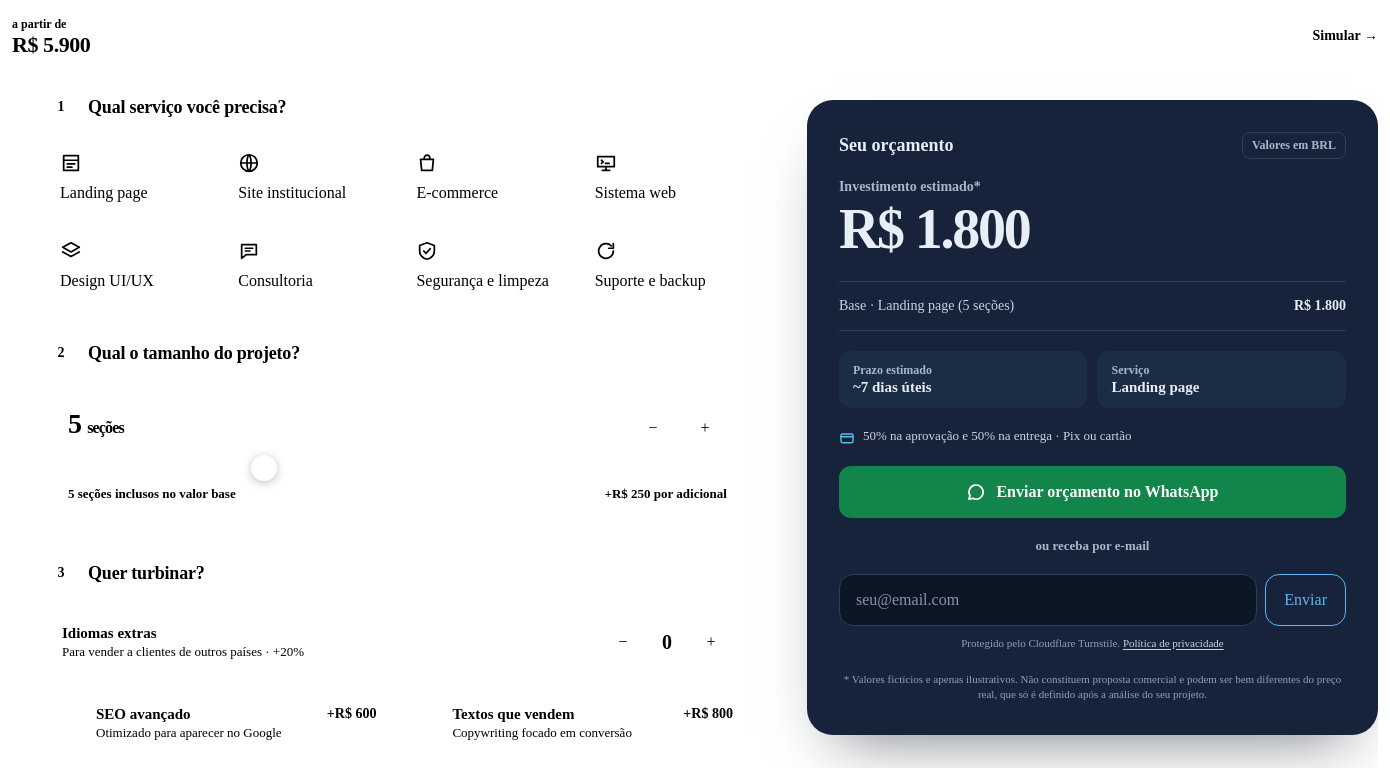
calculadora › consultoria não tem extras e mostra o aviso
What coordinates should you click on to do the following:
click the button "Consultoria"
I would click on:
 (308, 265)
Its box is [224, 226, 392, 304].
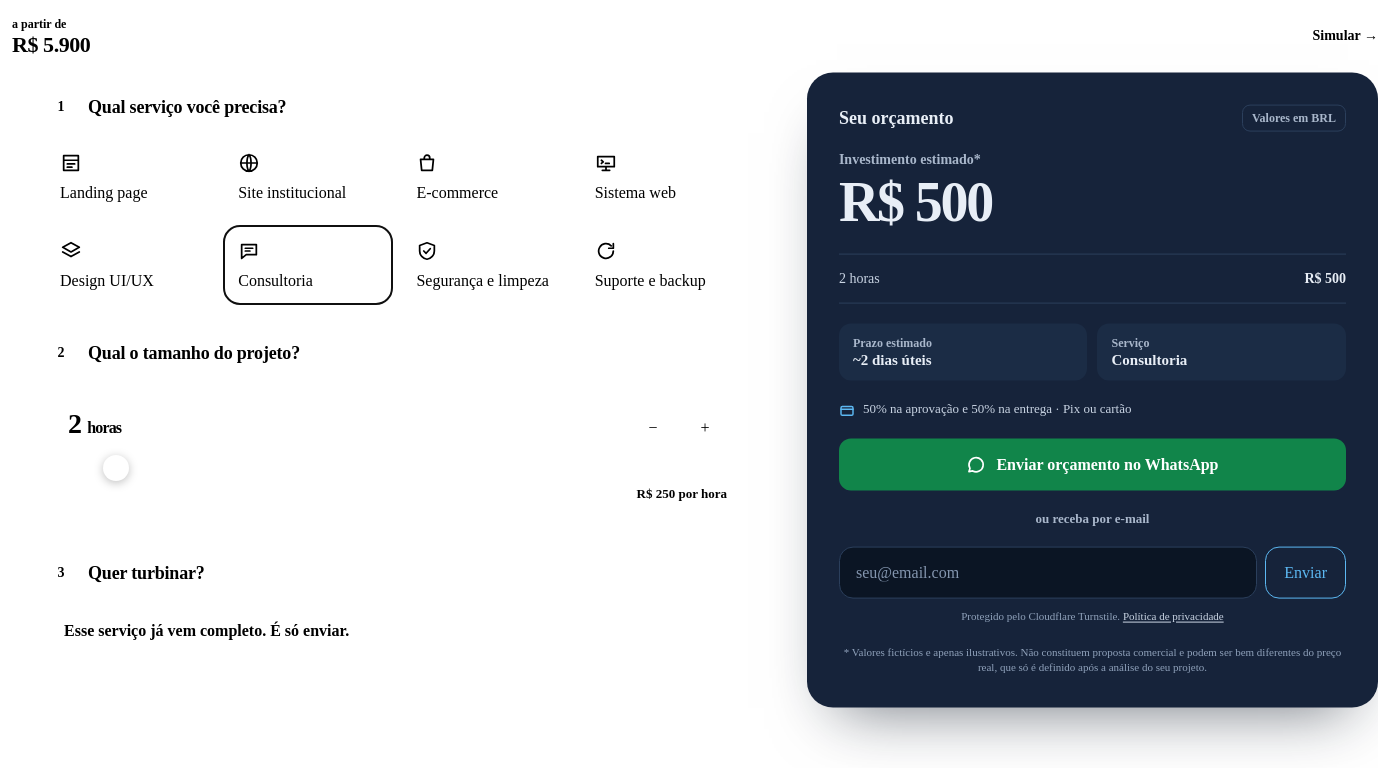
Result: the text "Esse serviço já vem completo. É só enviar." is shown at [64, 622, 349, 639]
Result: the element with class "langx" is gone
Result: no buttons with class "xcard" are shown
